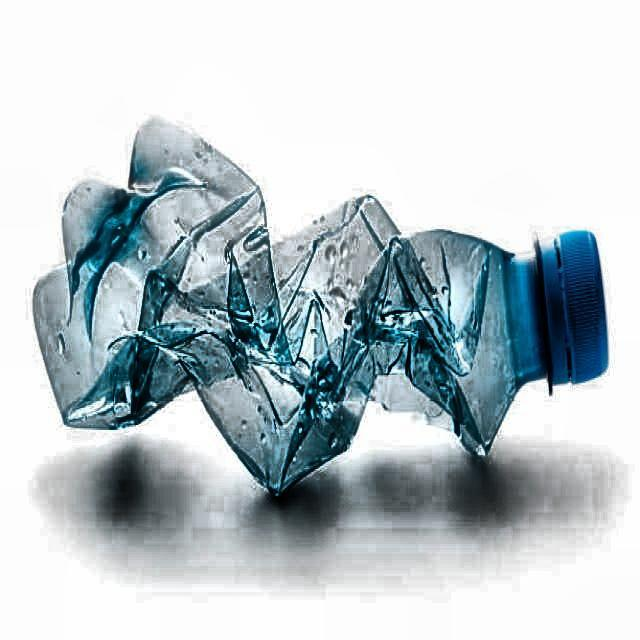plastic: (31, 114, 610, 501)
